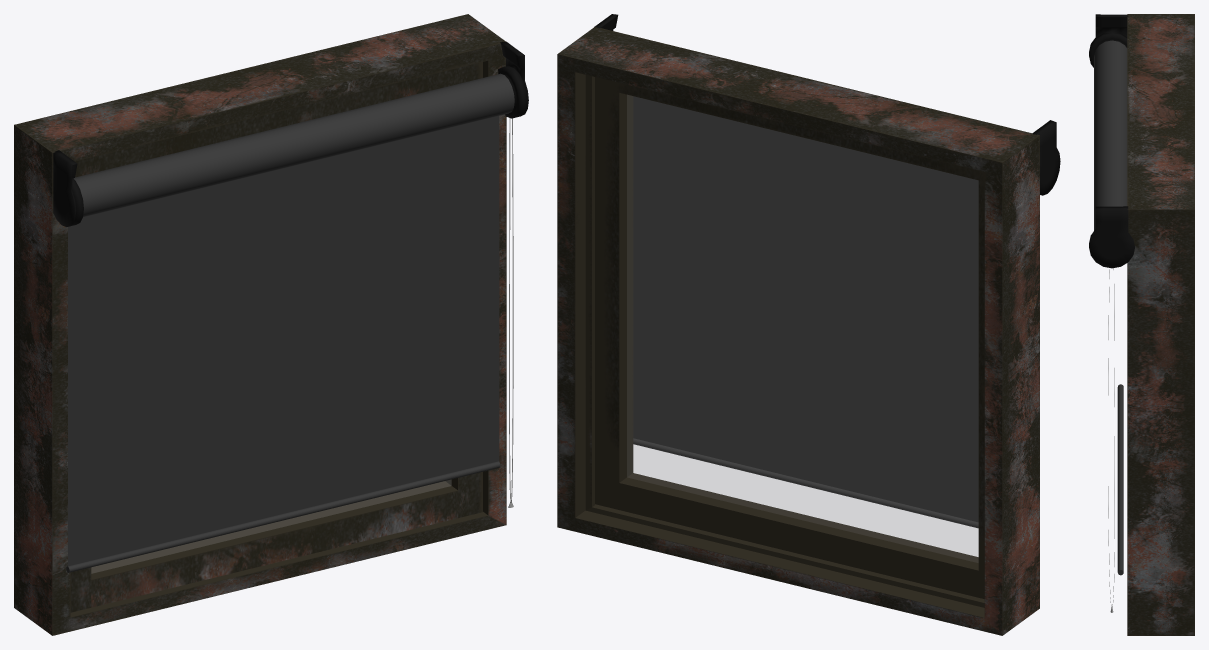
Rendered from window_blinds_closed.glb.
The picture shows the model from 3 angles, left to right: view 1: azimuth 30°, elevation 25°; view 2: azimuth 150°, elevation 25°; view 3: azimuth 270°, elevation 25°; orthographic projection. The views are drawn at different scales.
Visible parts, largest first — view 1: Panel, f__0, up_f_0, Roller, up_glass_0, Side.L, Side.R, String; view 2: up_glass_0, Panel, f__0, up_f_0, Side.L; view 3: f__0, Roller, Side.R, Panel, Side.L, String.
Boxes of the visible parts, x1,y1,x2,y2 form: Panel: [66, 116, 500, 572]; f__0: [14, 14, 506, 635]; up_f_0: [70, 62, 482, 612]; Roller: [73, 73, 514, 217]; up_glass_0: [91, 480, 451, 573]; Side.L: [53, 150, 83, 226]; Side.R: [498, 41, 528, 118]; String: [509, 118, 513, 501]; up_glass_0: [627, 95, 978, 562]; Panel: [633, 96, 978, 528]; f__0: [557, 26, 1039, 635]; up_f_0: [595, 77, 984, 598]; Side.L: [1032, 120, 1060, 195]; f__0: [1127, 14, 1194, 635]; Roller: [1094, 40, 1127, 230]; Side.R: [1089, 206, 1134, 268]; Panel: [1117, 384, 1123, 575]; Side.L: [1089, 14, 1128, 67]; String: [1108, 268, 1114, 606].
Bounding box in the file's own units: 0.9009 × 0.9158 × 0.206.
6 materials, 2 textured.
